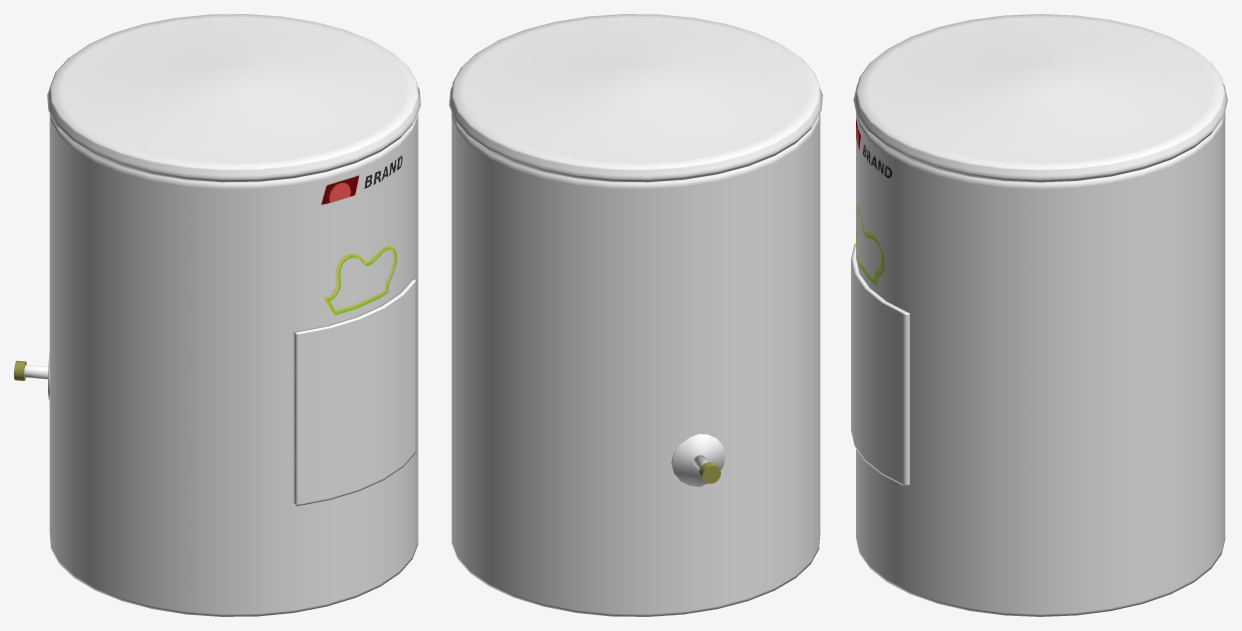
The model's file is sc-electric-water-heater.glb.
3 renders of one model, left to right at view 1: azimuth 30°, elevation 25°; view 2: azimuth 150°, elevation 25°; view 3: azimuth 270°, elevation 25°, orthographic.
Parts seen in each view (by area): view 1: electric-heater_Cylinder, electric-heater.001_Cylinder.003; view 2: electric-heater_Cylinder, round_Cylinder.001; view 3: electric-heater_Cylinder, electric-heater.001_Cylinder.003.
Part boxes in pixels (x1,y1,x2,y2): electric-heater_Cylinder: [47, 14, 420, 616]; electric-heater.001_Cylinder.003: [293, 278, 416, 506]; electric-heater_Cylinder: [449, 14, 822, 616]; round_Cylinder.001: [671, 434, 725, 486]; electric-heater_Cylinder: [853, 14, 1227, 616]; electric-heater.001_Cylinder.003: [851, 243, 909, 486].
Size of the model in its own units: 0.456 by 0.619 by 0.459.
4 materials, 1 textured.
